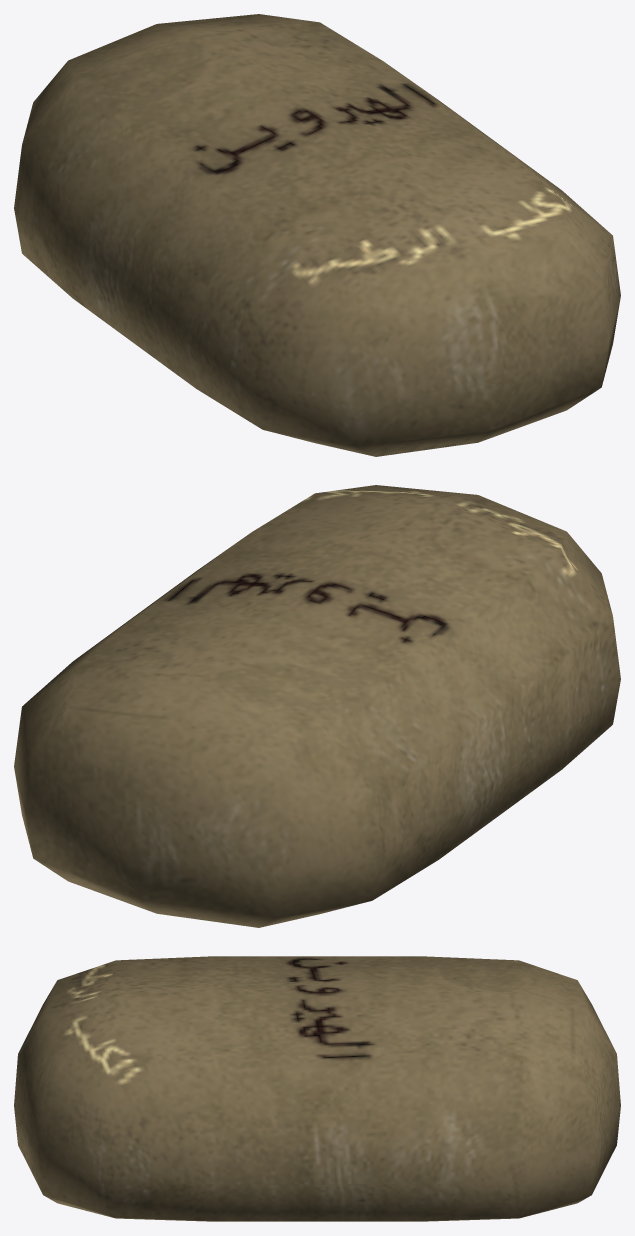
The model's file is HeroinSmall.fbx.
The picture shows the model from 3 angles, top to bottom: view 1: azimuth 30°, elevation 25°; view 2: azimuth 150°, elevation 25°; view 3: azimuth 270°, elevation 25°; orthographic projection. The views are drawn at different scales.
Visible parts, largest first — view 1: HeroinSmall; view 2: HeroinSmall; view 3: HeroinSmall.
Boxes of the visible parts, x1=… form: HeroinSmall: x1=14, y1=14, x2=620, y2=456; HeroinSmall: x1=14, y1=485, x2=620, y2=927; HeroinSmall: x1=14, y1=956, x2=620, y2=1221.
Size of the model in its own units: 0.0998 by 0.0546 by 0.1627.
